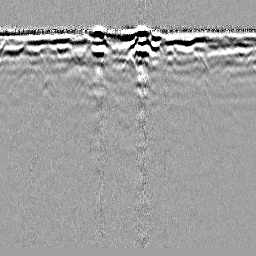cavity: (121, 51, 138, 72)
